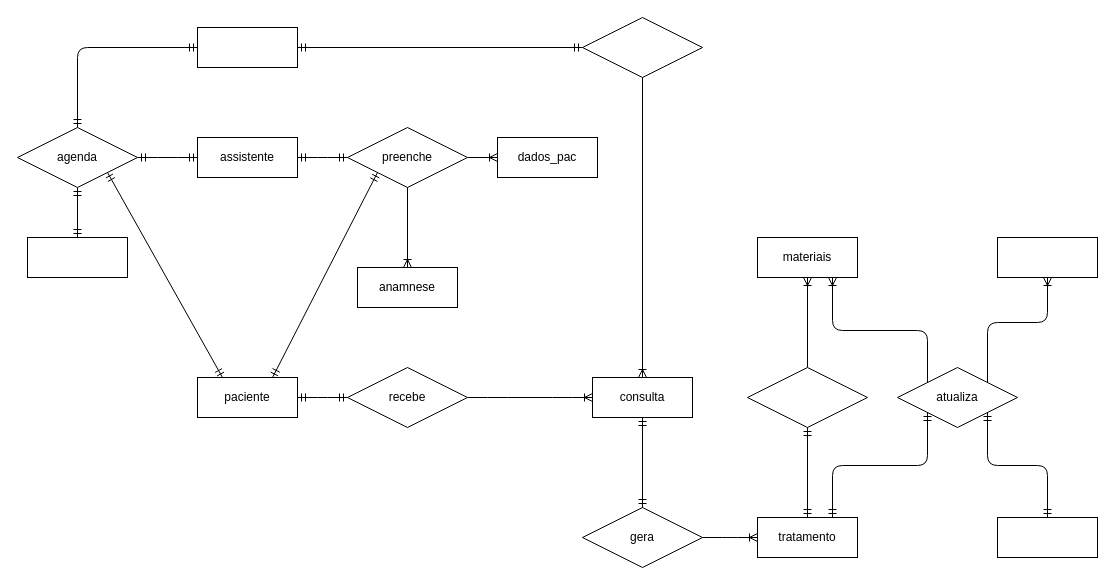
Some shapes in this 1115 by 585 pixel diagram are drawn without their labels. The centre of each missing label's shape, as x and y in pixels:
atendimento: point (77, 257)
dentista: point (247, 47)
estoque: point (1047, 257)
finanças: point (1047, 537)
realiza: point (642, 47)
requer: point (807, 397)
